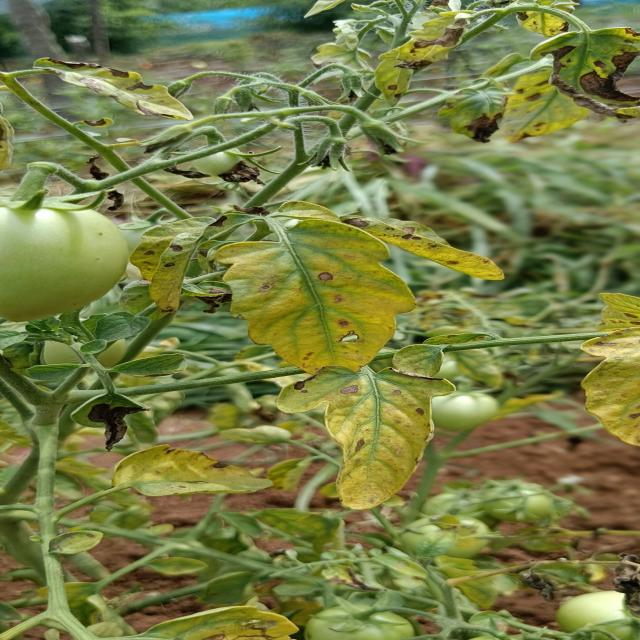tomato_early blight: (212, 218, 414, 372), (276, 366, 454, 511), (256, 196, 512, 281), (32, 57, 191, 120), (531, 26, 639, 118), (370, 8, 465, 98), (111, 445, 271, 497), (578, 324, 640, 446), (131, 217, 207, 313)
